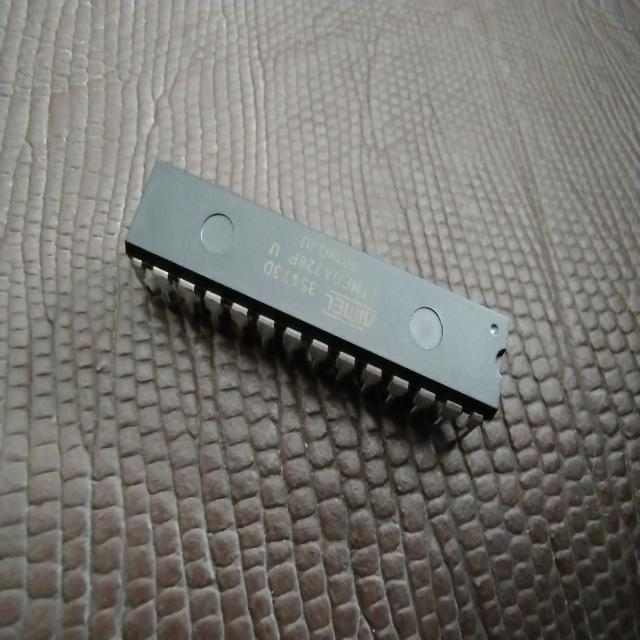atmega: (122, 156, 512, 428)
